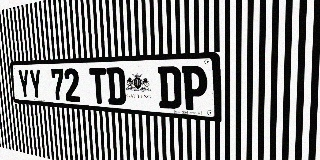2: (64, 68, 80, 102)
7: (50, 68, 66, 101)
D: (158, 66, 182, 110), (106, 67, 126, 106)
P: (182, 66, 208, 111)
T: (89, 68, 108, 104)
Y: (29, 69, 43, 100), (17, 69, 31, 99)
